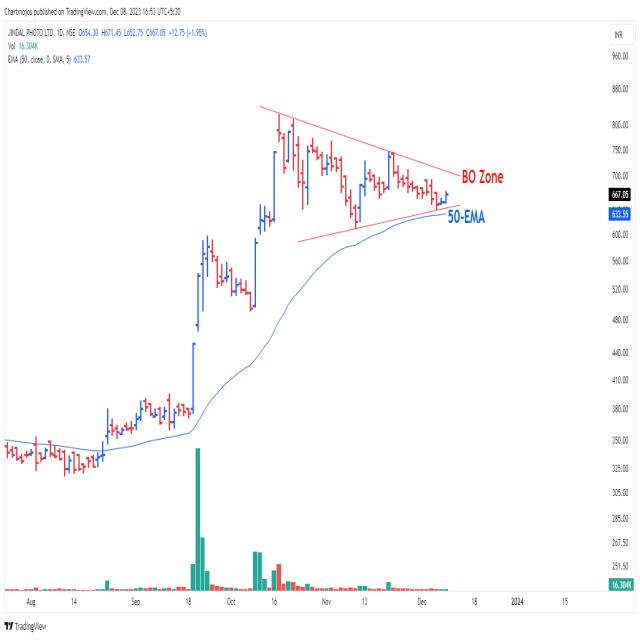Triangle: (241, 107, 513, 252)
